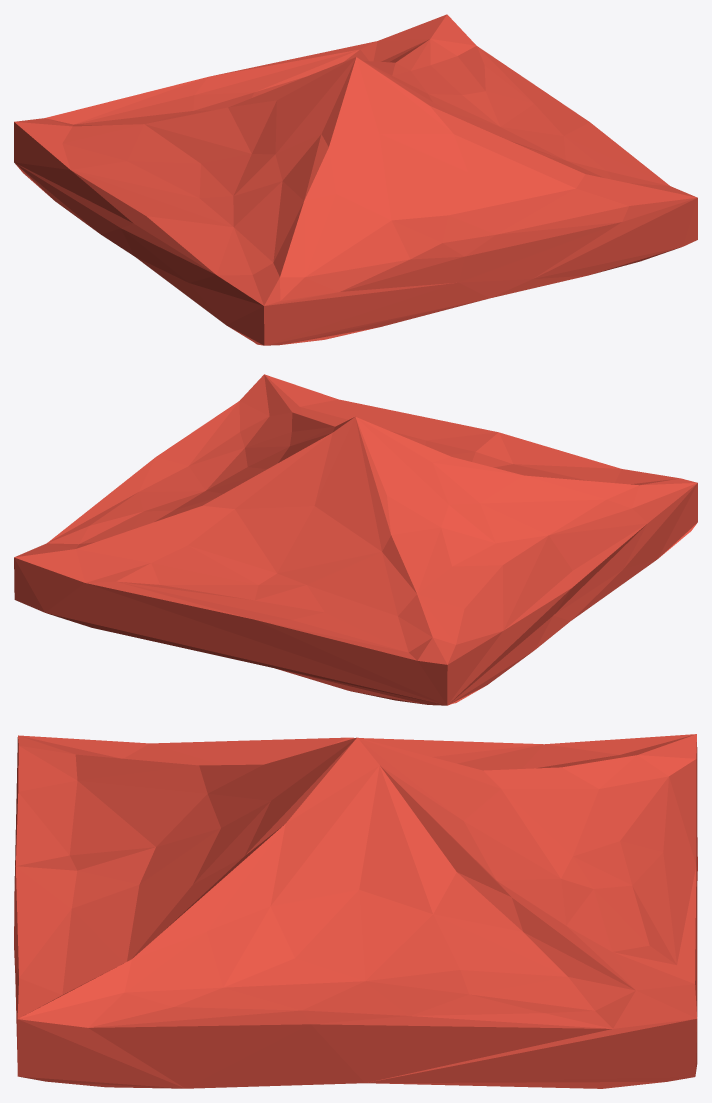
Rendered from SM_Tent_Cover_Color_Movie.fbx.
The picture shows the model from 3 angles, top to bottom: view 1: azimuth 30°, elevation 25°; view 2: azimuth 150°, elevation 25°; view 3: azimuth 270°, elevation 25°; orthographic projection. The views are drawn at different scales.
Visible parts, largest first — view 1: SM_Tent_Cover_Color_Movie; view 2: SM_Tent_Cover_Color_Movie; view 3: SM_Tent_Cover_Color_Movie.
Part boxes in pixels (<box>): SM_Tent_Cover_Color_Movie: <box>14,14,697,345</box>; SM_Tent_Cover_Color_Movie: <box>14,374,697,705</box>; SM_Tent_Cover_Color_Movie: <box>14,734,697,1088</box>.
Bounding box in the file's own units: 302 × 303 × 102.
